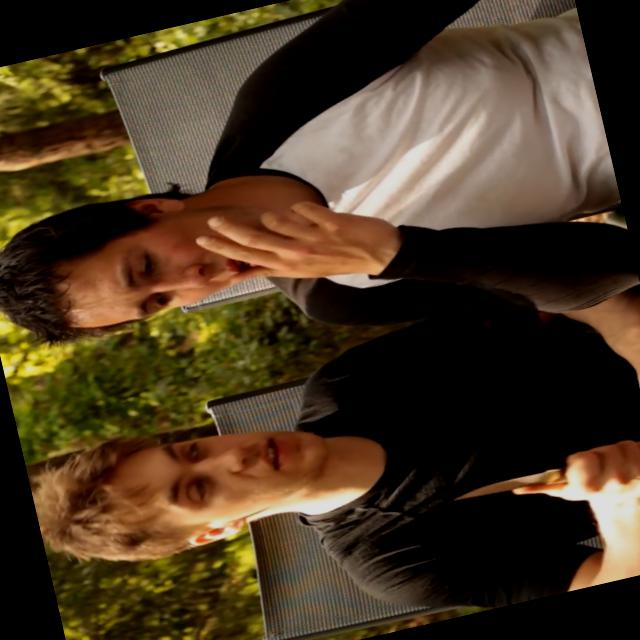knife: (435, 429, 636, 540)
